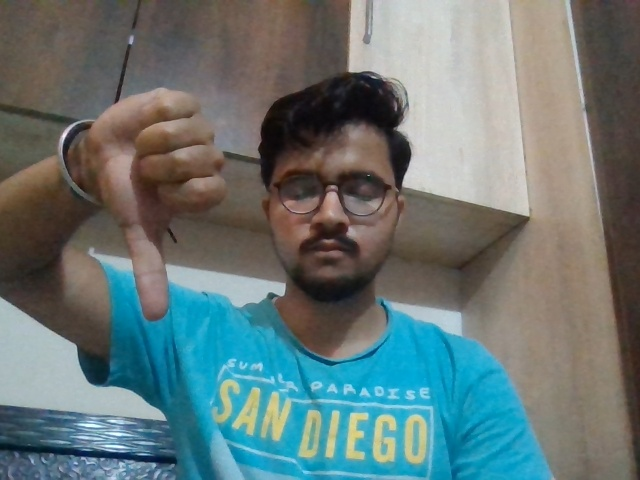no: (74, 58, 230, 321)
